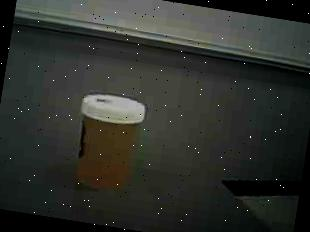Bottle B: (57, 82, 157, 204)
